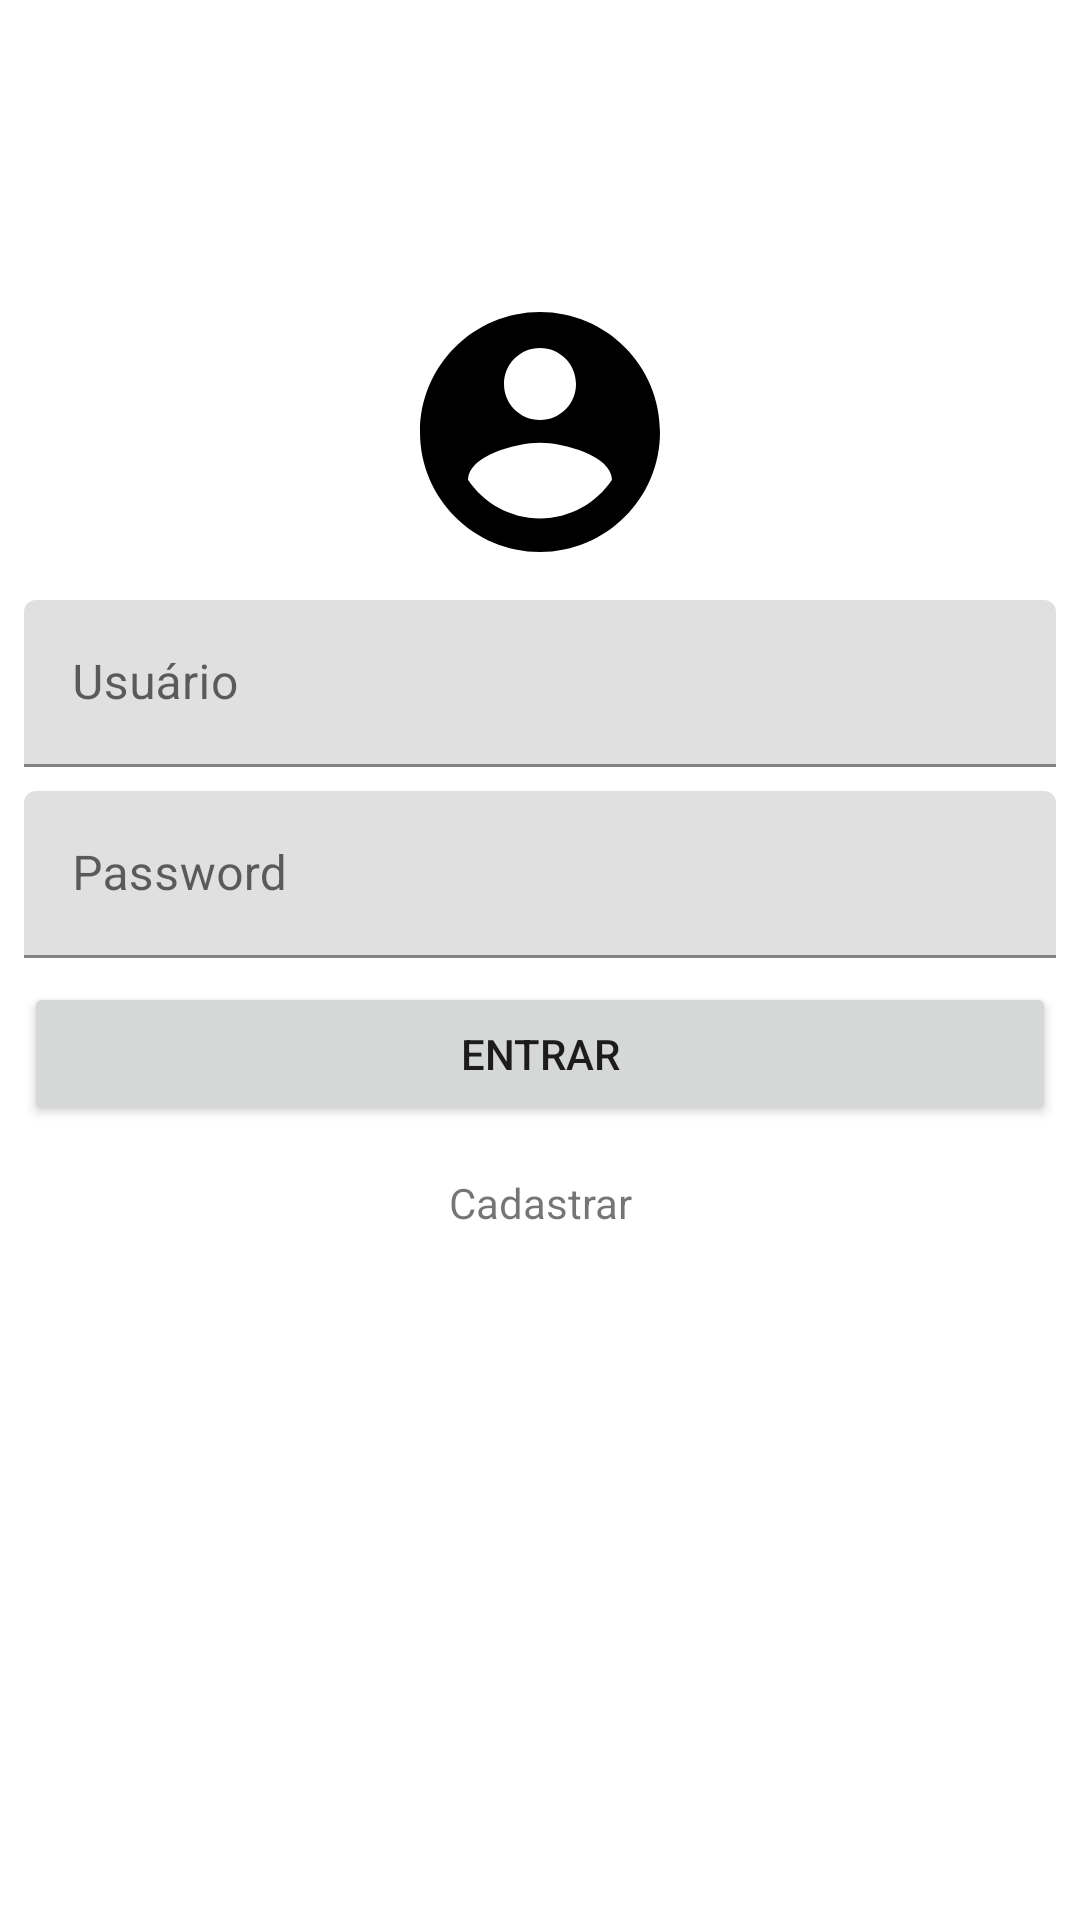

Icon click points for this 1080×1920 phone screenshot, format (x,y):
account circle: (540,432)
